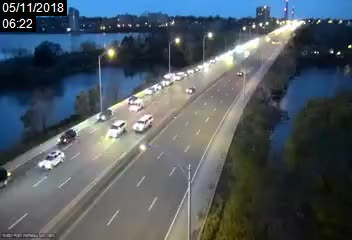personal_car: (38, 150, 65, 171), (133, 113, 154, 132), (106, 119, 126, 138), (56, 127, 77, 145), (95, 107, 114, 122), (1, 164, 11, 190), (128, 99, 144, 111), (183, 86, 196, 95), (127, 93, 138, 103), (144, 85, 154, 96), (160, 78, 170, 87), (153, 81, 162, 90), (237, 69, 246, 76)
